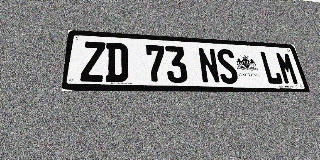3: (165, 46, 188, 83)
7: (144, 45, 167, 83)
D: (105, 42, 128, 82)
L: (259, 51, 284, 85)
M: (275, 52, 300, 85)
N: (197, 47, 221, 84)
S: (215, 48, 240, 84)
Z: (80, 41, 105, 82)
